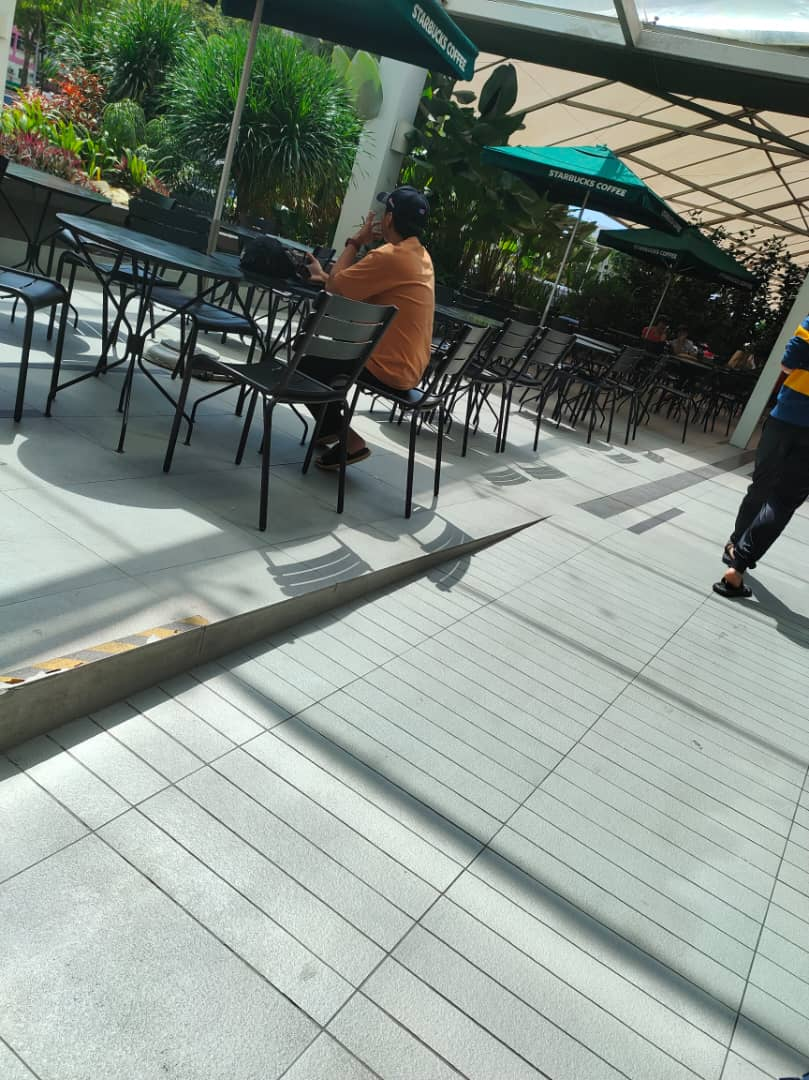sit: (330, 179, 440, 525)
